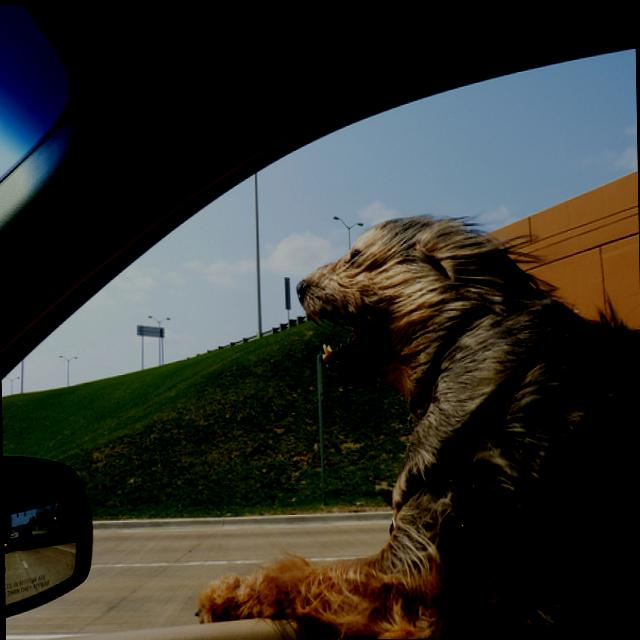Vehicle: (17, 526, 34, 538), (7, 531, 15, 537)
